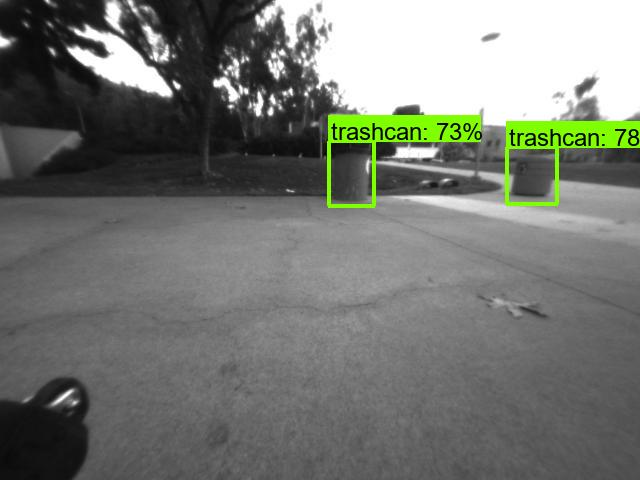trashcan: (332, 144, 374, 205), (510, 149, 551, 205)
